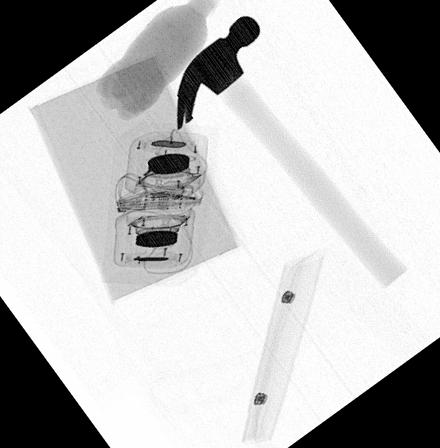Hammer: (175, 13, 409, 288)
